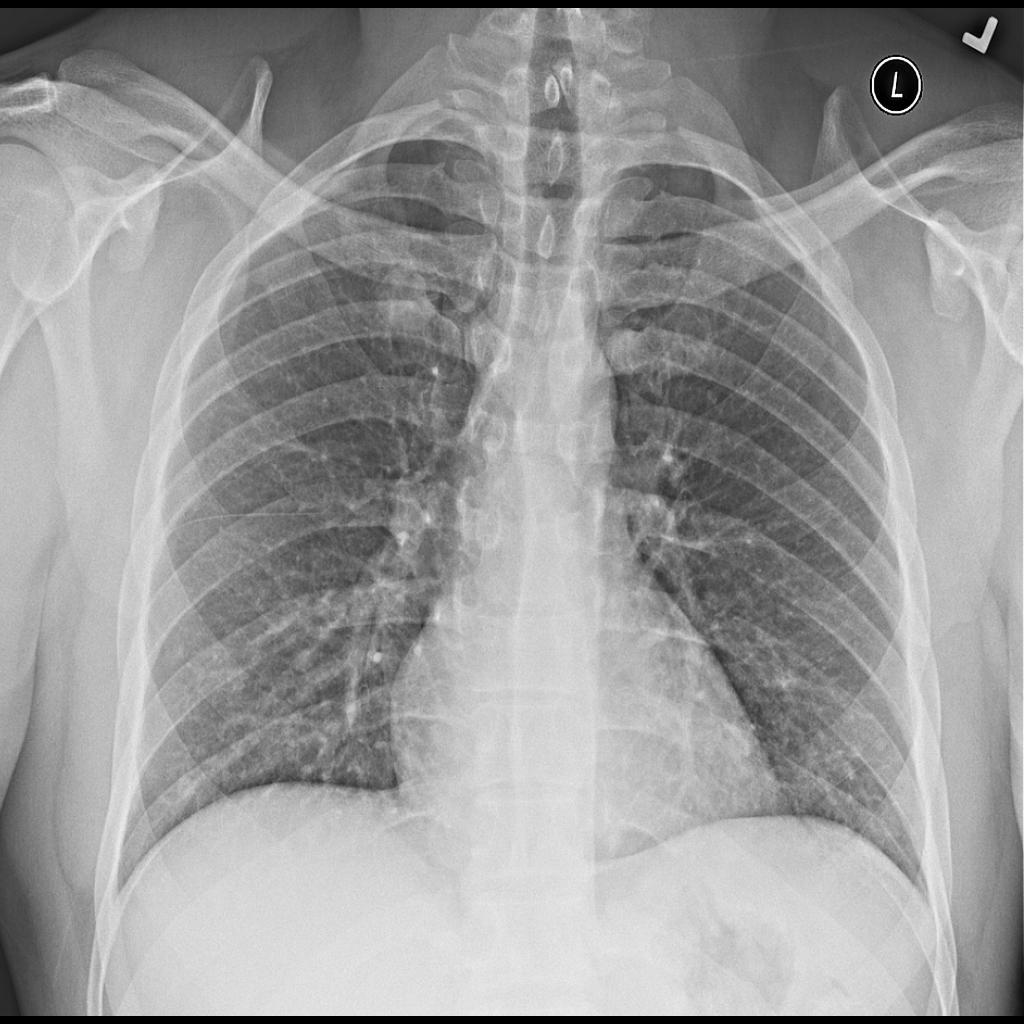Nodule: (358, 250, 430, 338)
